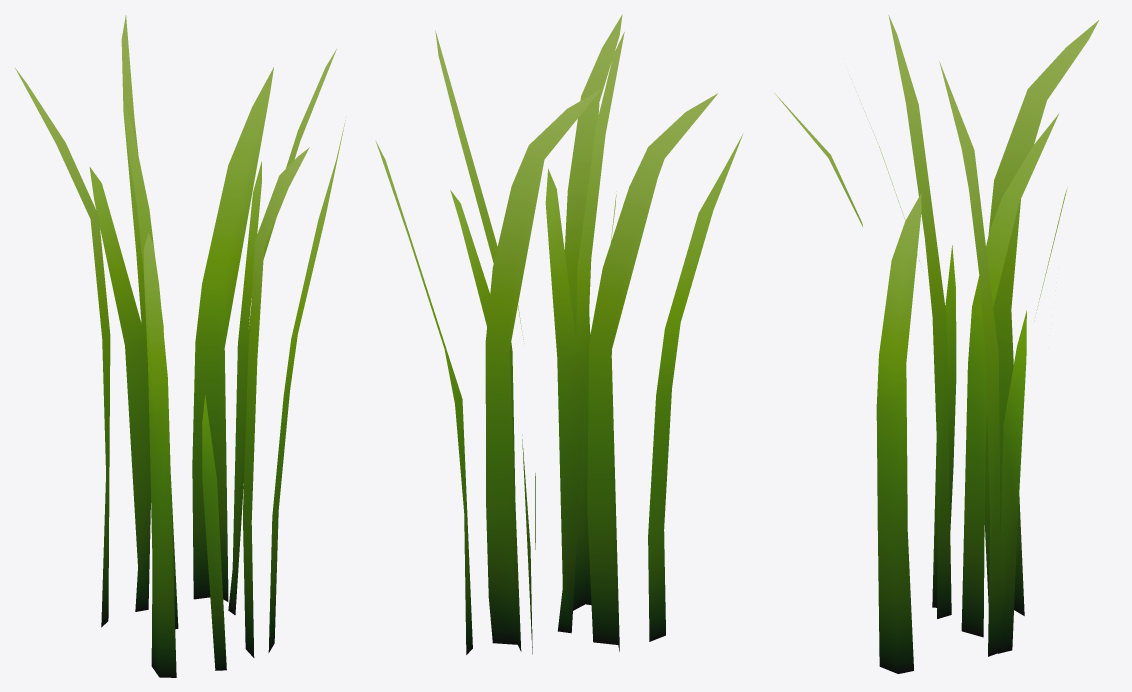
File: grass.glb
3 views of the same model, side by side, from view 1: azimuth 30°, elevation 25°; view 2: azimuth 150°, elevation 25°; view 3: azimuth 270°, elevation 25° (orthographic). The views are drawn at different scales.
Parts seen in each view (by area): view 1: Grass_Common_Tall; view 2: Grass_Common_Tall; view 3: Grass_Common_Tall.
Part boxes in pixels (x1,y1,x2,y2): Grass_Common_Tall: [15, 15, 346, 677]; Grass_Common_Tall: [375, 14, 743, 654]; Grass_Common_Tall: [774, 15, 1098, 673].
Bounding box in the file's own units: 0.8951 × 1.87 × 0.9931.
Materials: 1 (1 with a texture image).
